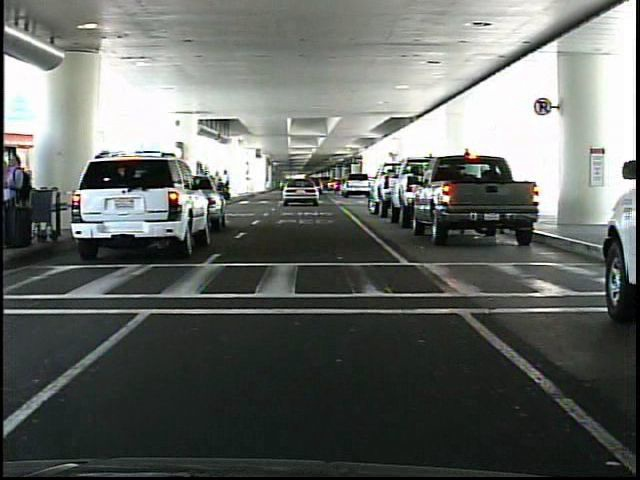person: (8, 153, 33, 253)
